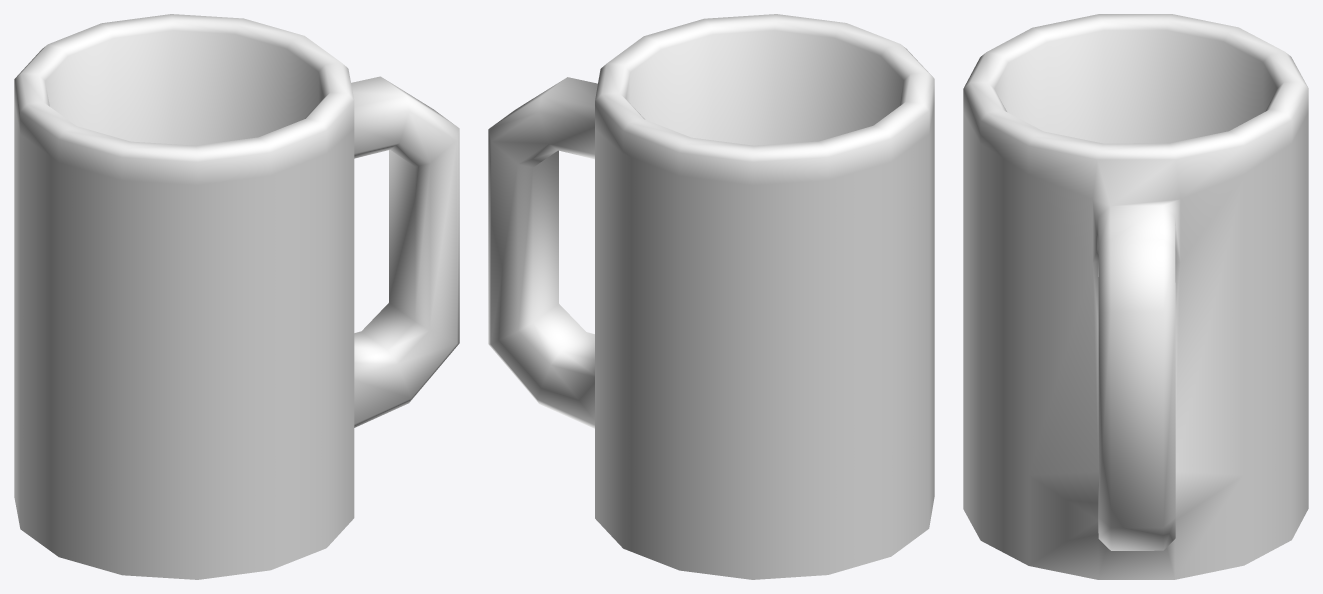
The model's file is BeerMug.FBX.
The picture shows the model from 3 angles, left to right: view 1: azimuth 30°, elevation 25°; view 2: azimuth 150°, elevation 25°; view 3: azimuth 270°, elevation 25°; orthographic projection.
Parts seen in each view (by area): view 1: beerMug; view 2: beerMug; view 3: beerMug.
Boxes of the visible parts, x1=… form: beerMug: x1=14, y1=14, x2=459, y2=579; beerMug: x1=488, y1=14, x2=934, y2=579; beerMug: x1=963, y1=14, x2=1308, y2=579.
Bounding box in the file's own units: 4.18 × 4.15 × 3.05.
1 material, 1 textured.
